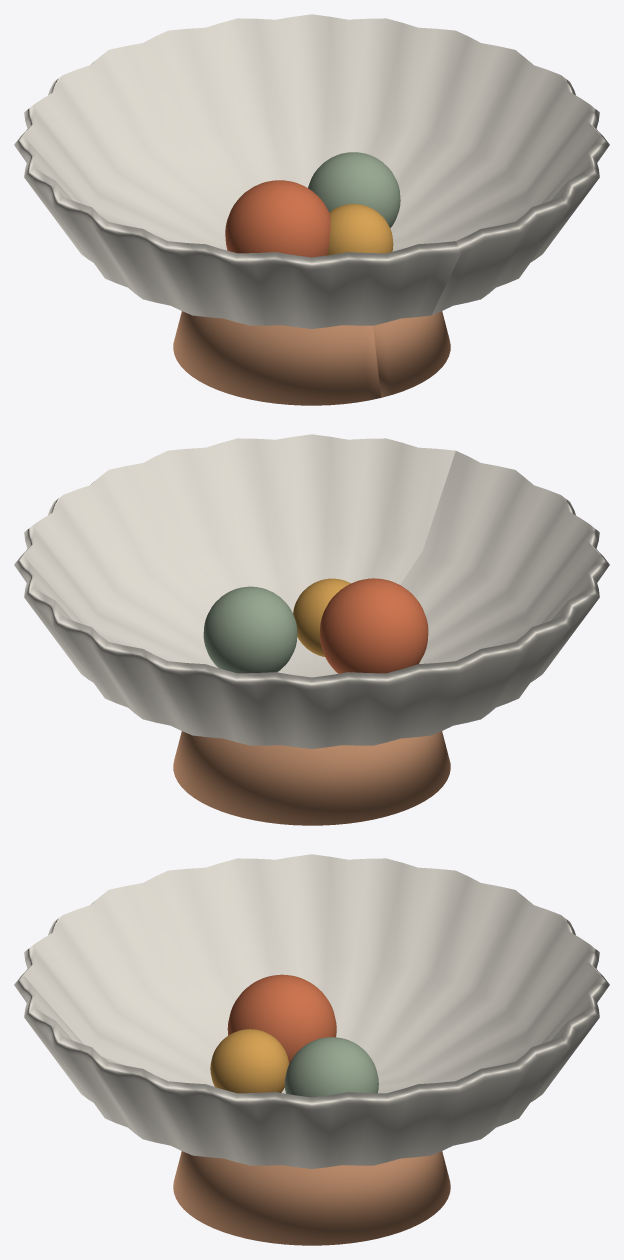
Rendered from ceramic_bowl.glb.
The picture shows the model from 3 angles, top to bottom: view 1: azimuth 30°, elevation 25°; view 2: azimuth 150°, elevation 25°; view 3: azimuth 270°, elevation 25°; orthographic projection.
Size of the model in its own units: 2.4 by 0.94 by 2.4.
